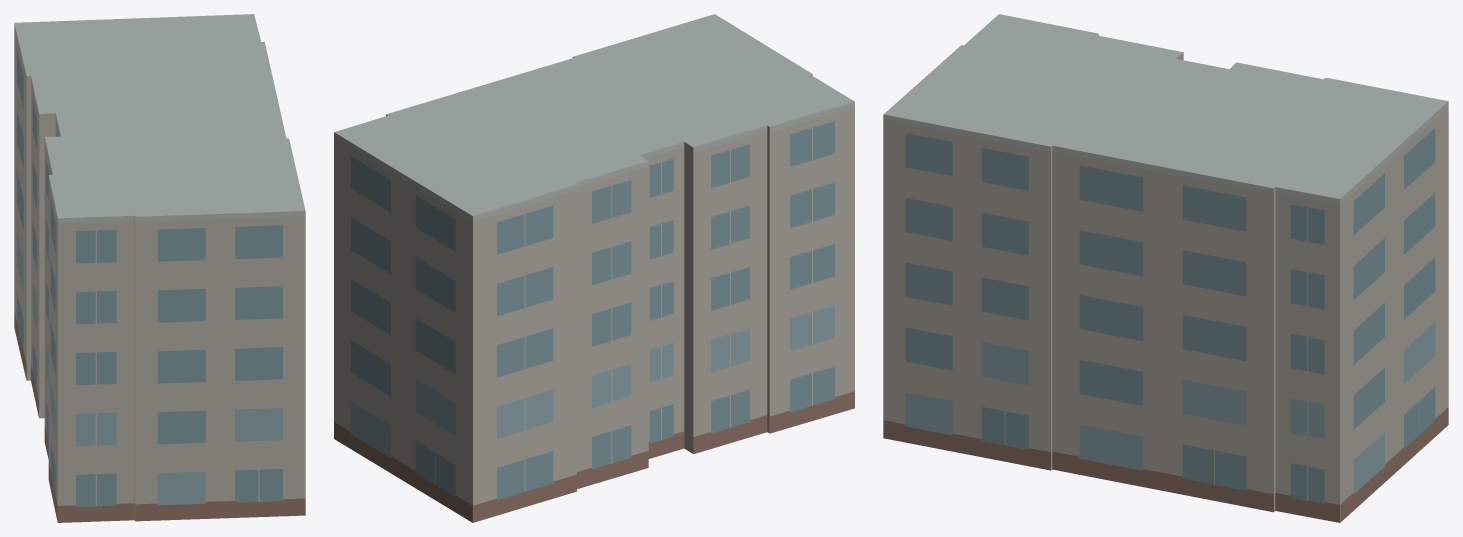
File: survey-upis-32669297.glb
3 views of the same model, side by side, from view 1: azimuth 30°, elevation 25°; view 2: azimuth 150°, elevation 25°; view 3: azimuth 270°, elevation 25° (orthographic). The views are drawn at different scales.
Visible parts, largest first — view 1: survey-upis-32669297.tmp; view 2: survey-upis-32669297.tmp; view 3: survey-upis-32669297.tmp.
Boxes of the visible parts, box(x1,y1,x2,y2) form: survey-upis-32669297.tmp: box(14, 14, 305, 522); survey-upis-32669297.tmp: box(334, 14, 854, 522); survey-upis-32669297.tmp: box(883, 14, 1448, 522).
Bounding box in the file's own units: 17.72 × 14.45 × 22.86.
